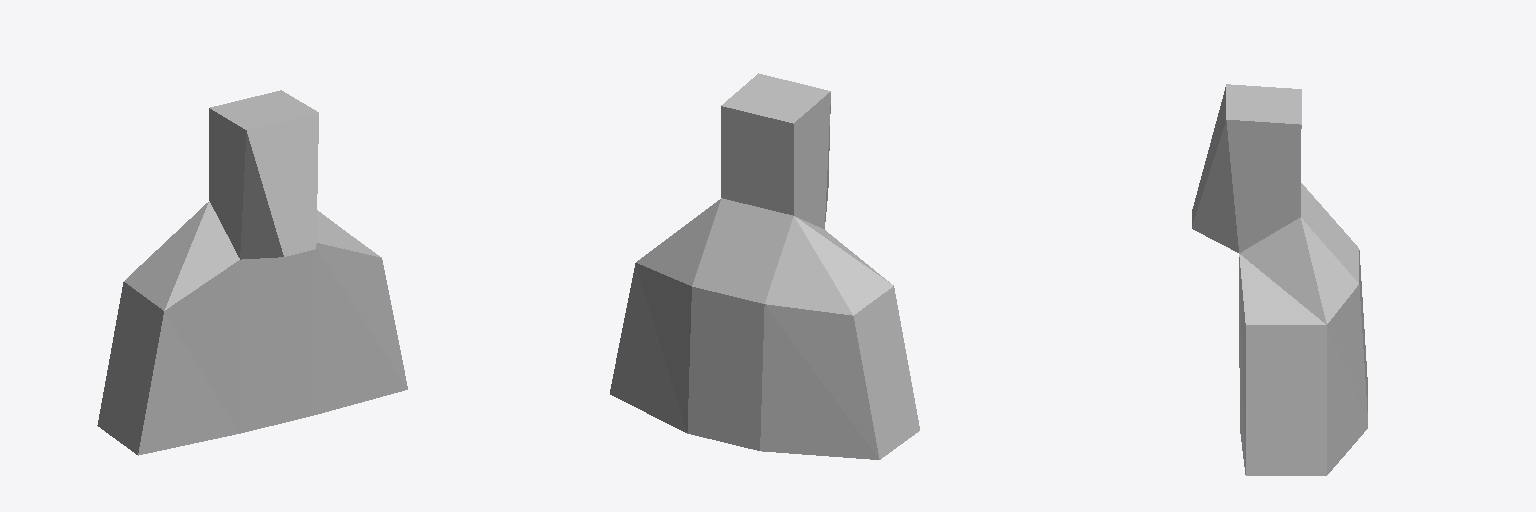
File: meditatingGuyUpperBodyCollider.obj
3 renders of one model, left to right at view 1: azimuth 30°, elevation 25°; view 2: azimuth 150°, elevation 25°; view 3: azimuth 270°, elevation 25°, orthographic.
Parts seen in each view (by area): view 1: MeditatingGuyUpperBodyCollider_Cube.003; view 2: MeditatingGuyUpperBodyCollider_Cube.003; view 3: MeditatingGuyUpperBodyCollider_Cube.003.
Part boxes in pixels (x1,y1,x2,y2): MeditatingGuyUpperBodyCollider_Cube.003: (97, 90, 407, 455); MeditatingGuyUpperBodyCollider_Cube.003: (610, 73, 919, 459); MeditatingGuyUpperBodyCollider_Cube.003: (1192, 84, 1367, 475).
Size of the model in its own units: 0.6569 by 0.7156 by 0.3725.